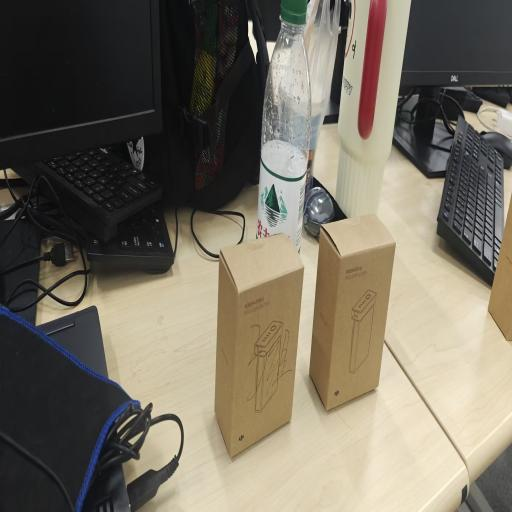bottle: (257, 0, 311, 252)
box: (214, 234, 304, 457), (309, 214, 395, 410)
